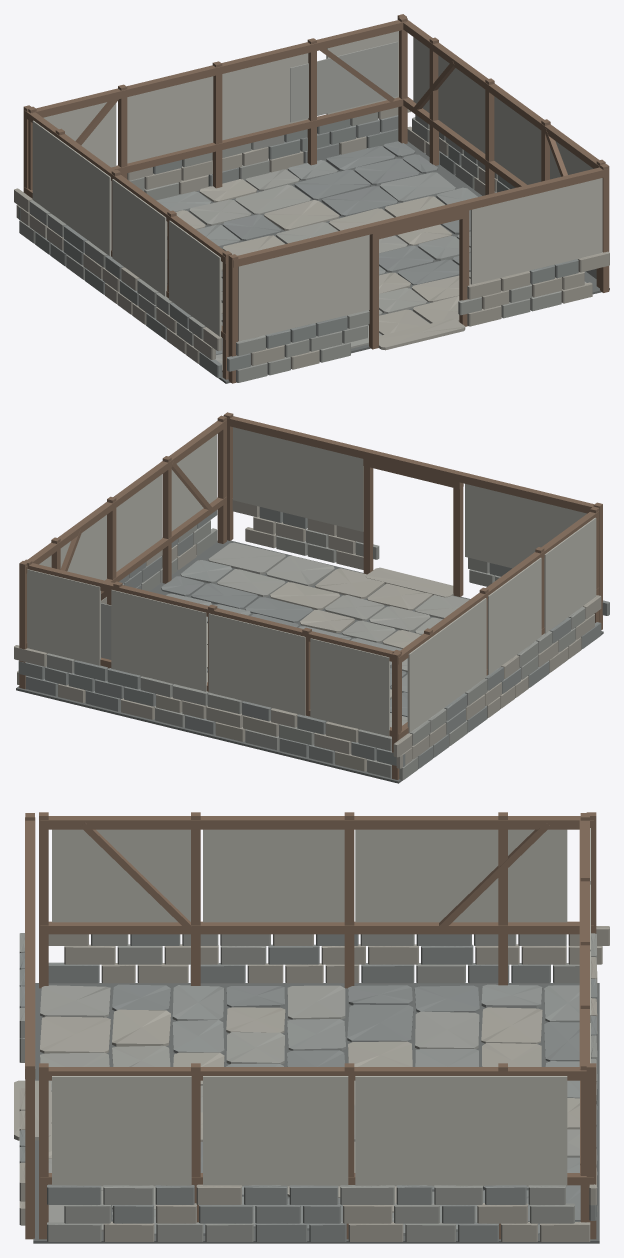
File: interiorFinish-33c29f15b622.glb
3 views of the same model, one above another, from view 1: azimuth 30°, elevation 25°; view 2: azimuth 150°, elevation 25°; view 3: azimuth 270°, elevation 25° (orthographic). The views are drawn at different scales.
Visible parts, largest first — view 1: aged_plaster_panels, oak_structural_frame, wall_stone_group_2, wall_stone_group_1, wall_stone_group_0, flagstone_group_0, flagstone_group_3, flagstone_group_2, forge_wall_shadow, flagstone_group_1, mortar_bed, door_threshold_stone; view 2: aged_plaster_panels, oak_structural_frame, wall_stone_group_2, wall_stone_group_0, wall_stone_group_1, flagstone_group_2, flagstone_group_3, flagstone_group_0, mortar_bed, flagstone_group_1, door_threshold_stone, forge_wall_shadow; view 3: aged_plaster_panels, oak_structural_frame, wall_stone_group_0, wall_stone_group_2, wall_stone_group_1, flagstone_group_3, flagstone_group_2, flagstone_group_0, flagstone_group_1, mortar_bed, door_threshold_stone.
Part boxes in pixels (x1,y1,x2,y2): aged_plaster_panels: (32,31,602,341); oak_structural_frame: (23,14,609,383); wall_stone_group_2: (14,107,609,369); wall_stone_group_1: (19,112,596,382); wall_stone_group_0: (18,115,578,378); flagstone_group_0: (167,141,470,354); flagstone_group_3: (167,179,470,335); flagstone_group_2: (167,169,586,371); forge_wall_shadow: (290,41,397,122); flagstone_group_1: (156,160,477,325); mortar_bed: (50,141,609,383); door_threshold_stone: (378,318,465,350); aged_plaster_panels: (27,427,596,736); oak_structural_frame: (19,412,602,779); wall_stone_group_2: (14,499,601,771); wall_stone_group_0: (18,507,609,768); wall_stone_group_1: (47,520,585,780); flagstone_group_2: (155,542,469,727); flagstone_group_3: (207,568,432,698); flagstone_group_0: (75,576,407,716); mortar_bed: (16,540,603,783); flagstone_group_1: (166,560,407,692); door_threshold_stone: (366,567,453,597); forge_wall_shadow: (101,603,111,659); aged_plaster_panels: (52,828,590,1186); oak_structural_frame: (25,812,596,1239); wall_stone_group_0: (19,934,597,1241); wall_stone_group_2: (19,926,609,1241); wall_stone_group_1: (19,933,597,1241); flagstone_group_3: (40,1007,579,1212); flagstone_group_2: (40,985,579,1231); flagstone_group_0: (112,984,580,1235); flagstone_group_1: (112,984,579,1235); mortar_bed: (33,983,599,1243); door_threshold_stone: (14,1080,50,1140).
Bounding box in the file's own units: 10.91 × 3.39 × 10.47.
